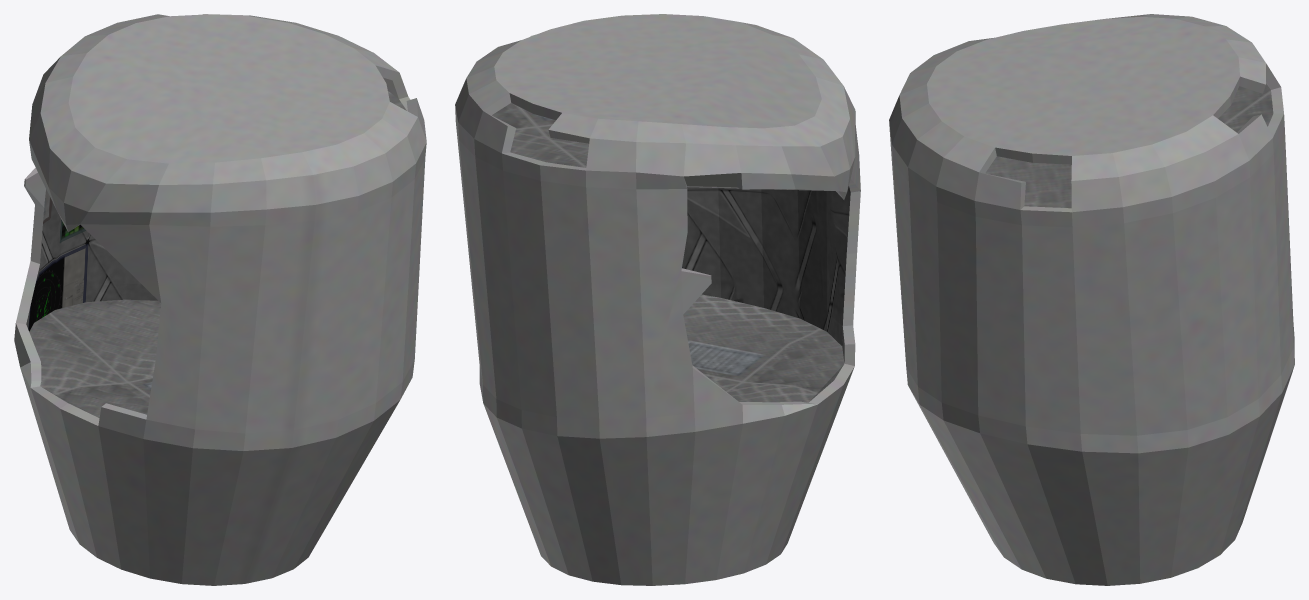
Rendered from rocket_capsule.glb.
3 views of the same model, side by side, from view 1: azimuth 30°, elevation 25°; view 2: azimuth 150°, elevation 25°; view 3: azimuth 270°, elevation 25° (orthographic).
Visible parts, largest first — view 1: cabin.001; view 2: cabin.001; view 3: cabin.001.
Part boxes in pixels (left/top/right/bottom): cabin.001: left=14, top=14, right=426, bottom=585; cabin.001: left=455, top=14, right=860, bottom=585; cabin.001: left=889, top=14, right=1294, bottom=585.
Bounding box in the file's own units: 10.38 × 13.35 × 10.21.
3 materials, 3 textured.
